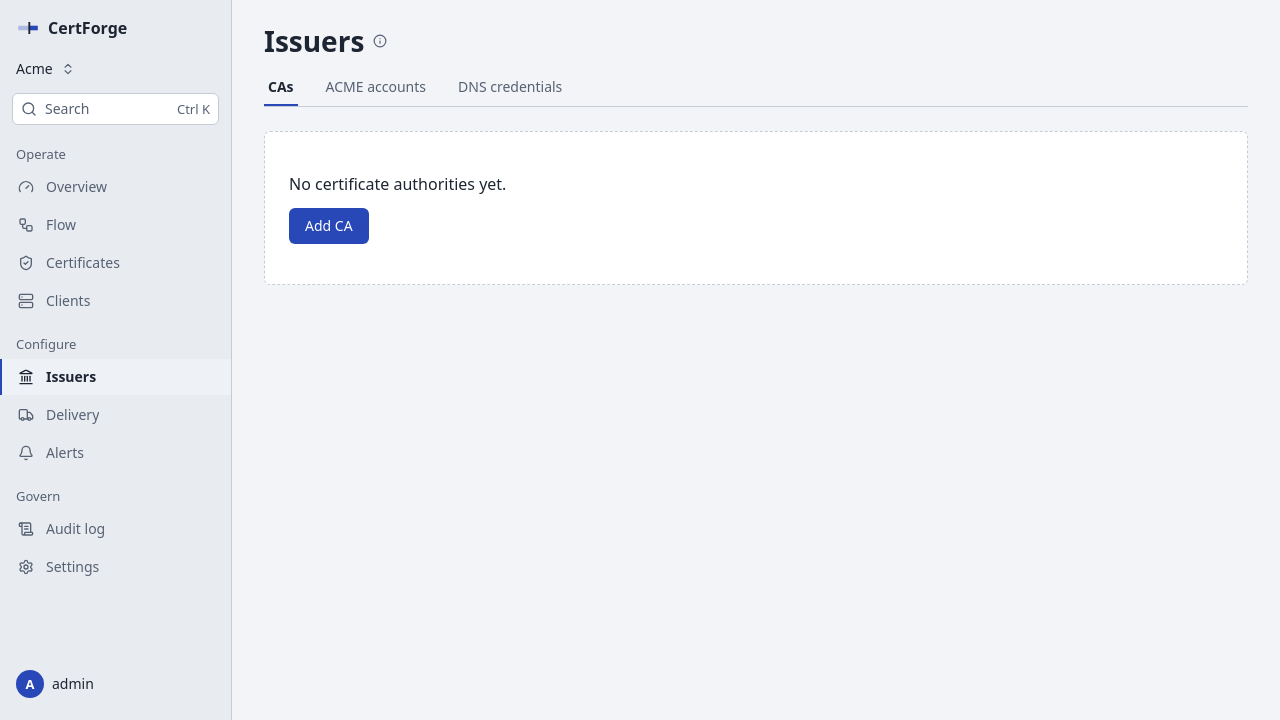
Test case: requires a directory URL for the custom preset
The image size is (1280, 720).
Click the button "Add CA".
click(329, 226)  # box 289,208 -> 369,244
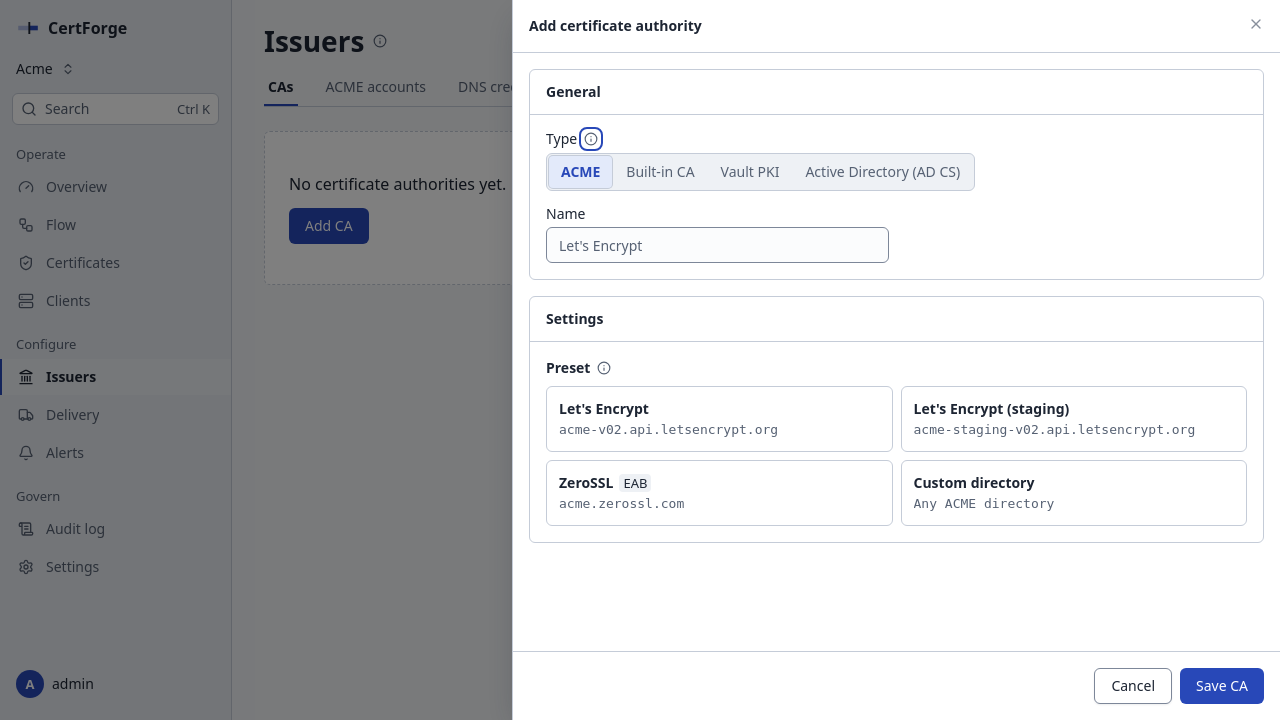
Click the button "Custom directory Any ACME directory".
click(974, 482)  # box 900,460 -> 1247,526
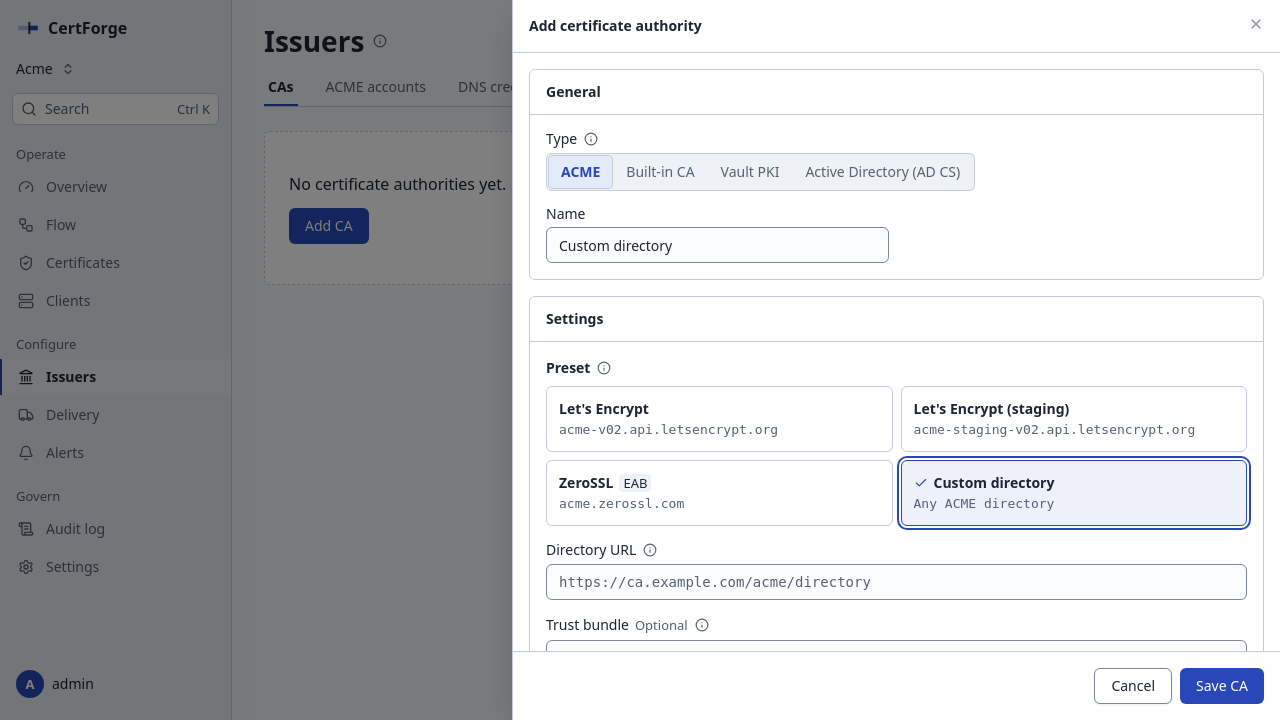
Type "Internal CA" into the field labelled "Name".
click(717, 245); type("Internal CA")  # box 546,227 -> 888,263
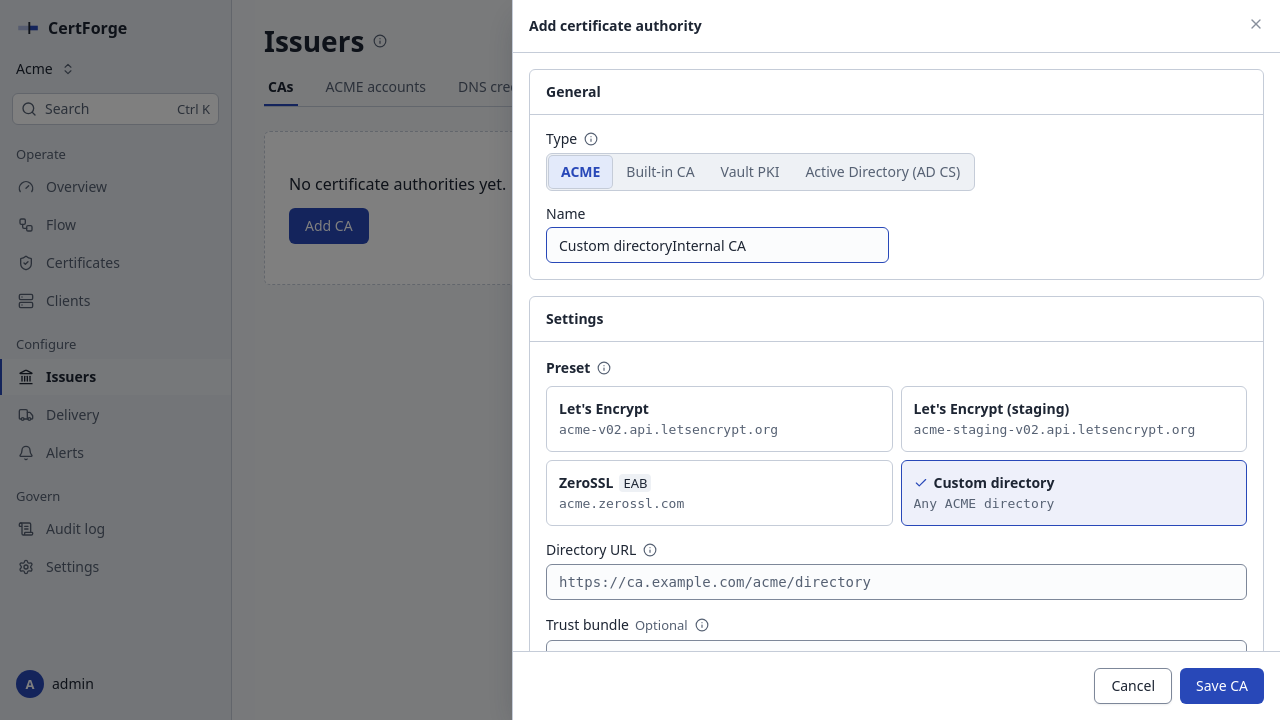
Click the button "Save CA".
click(1222, 686)  # box 1180,668 -> 1264,704
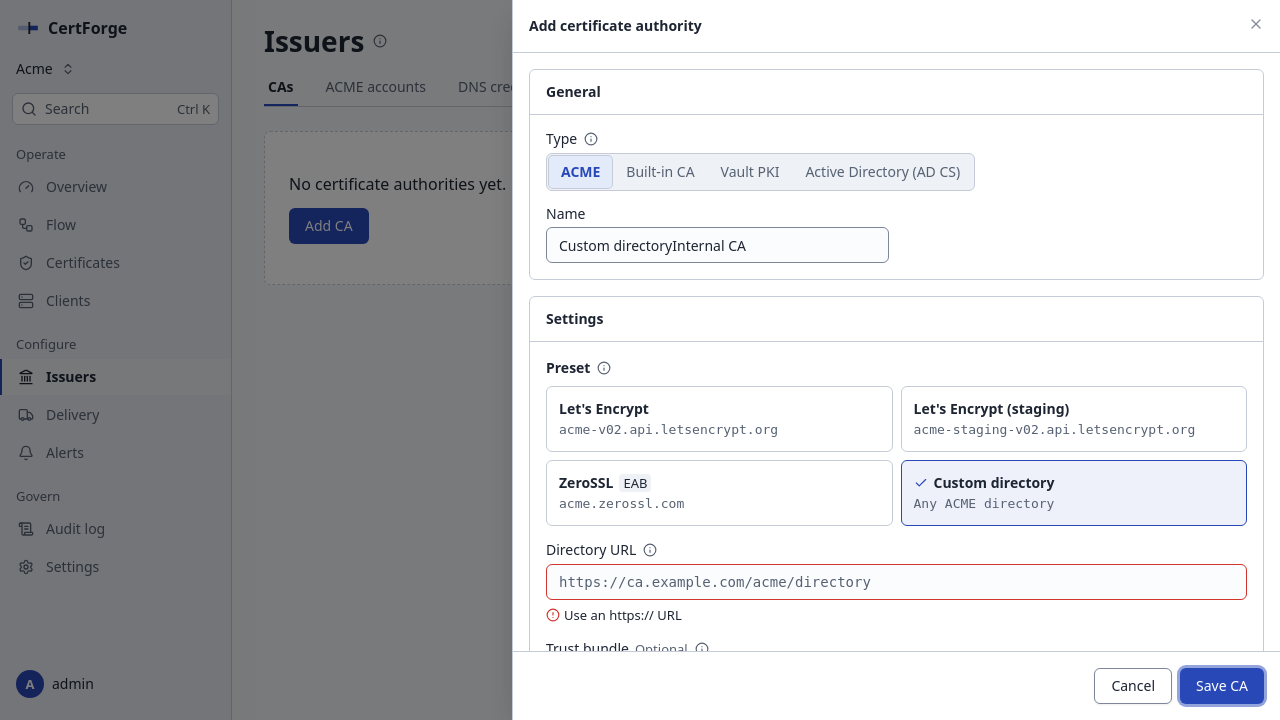
Expected: the text "Use an https:// URL" is shown, 546,606 -> 682,624
